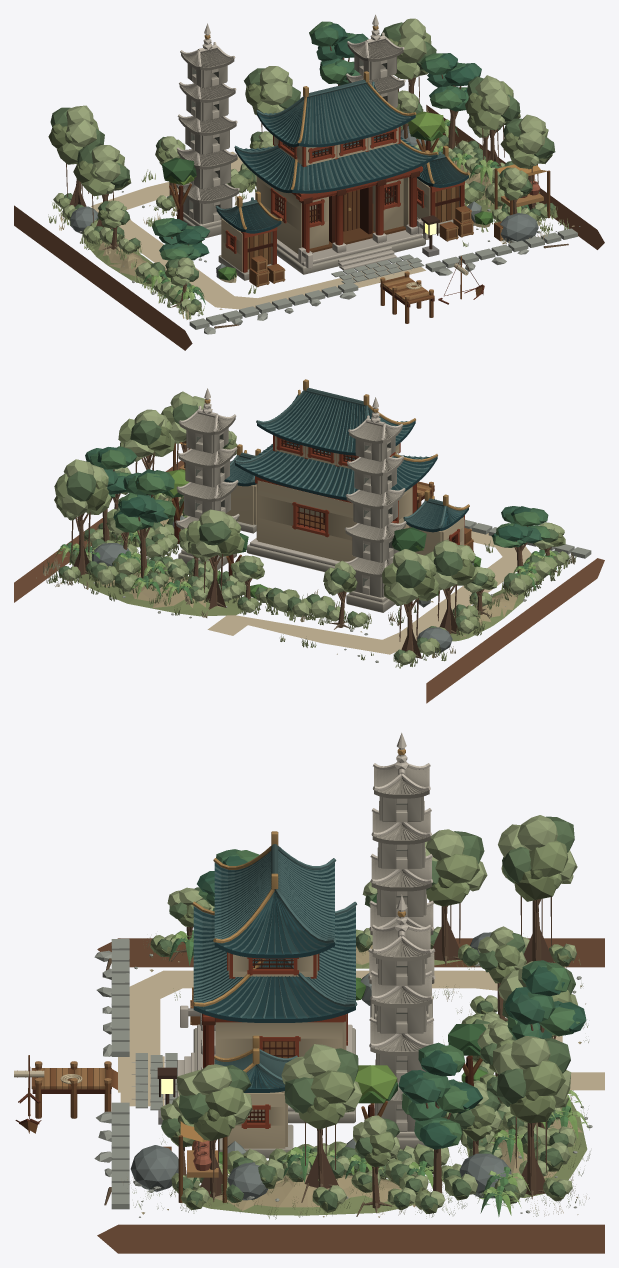
File: quanzhou.glb
The picture shows the model from 3 angles, top to bottom: view 1: azimuth 30°, elevation 25°; view 2: azimuth 150°, elevation 25°; view 3: azimuth 270°, elevation 25°; orthographic projection. The views are drawn at different scales.
Visible parts, largest first — view 1: quanzhou; view 2: quanzhou; view 3: quanzhou.
Part boxes in pixels (box(x1,y1,x2,y2)): quanzhou: box(14, 14, 604, 350); quanzhou: box(14, 379, 604, 703); quanzhou: box(14, 732, 604, 1253).
Size of the model in its own units: 8 by 4.17 by 6.98.
